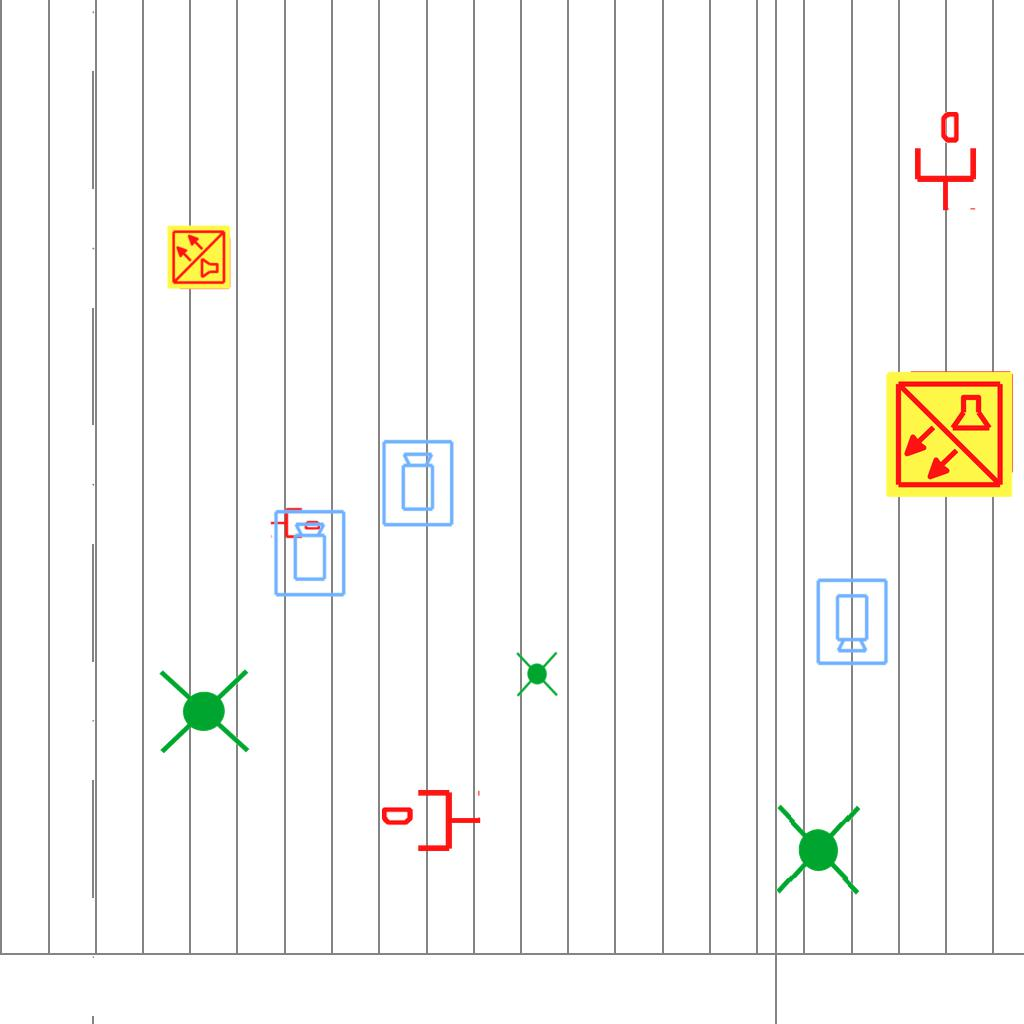Datenanschluss_einfach: (911, 112, 980, 212), (382, 786, 482, 855), (270, 506, 320, 540)
KFO_Kamera_mit_Festobjektiv: (813, 576, 890, 667), (380, 438, 457, 529), (272, 508, 349, 599)
Notlichtbaustein_in_Allgemeinbeleuchtug_engebaut_Einbau_(1UG_und_2UG_Aufbauvaria: (767, 799, 872, 901), (154, 661, 254, 764), (511, 649, 562, 699)
OKW_Multisensormelder_(Kombination_optischer_Rauch-Kahlenmonoxid_Waerme-Melder): (883, 368, 1015, 500), (166, 224, 232, 290)
